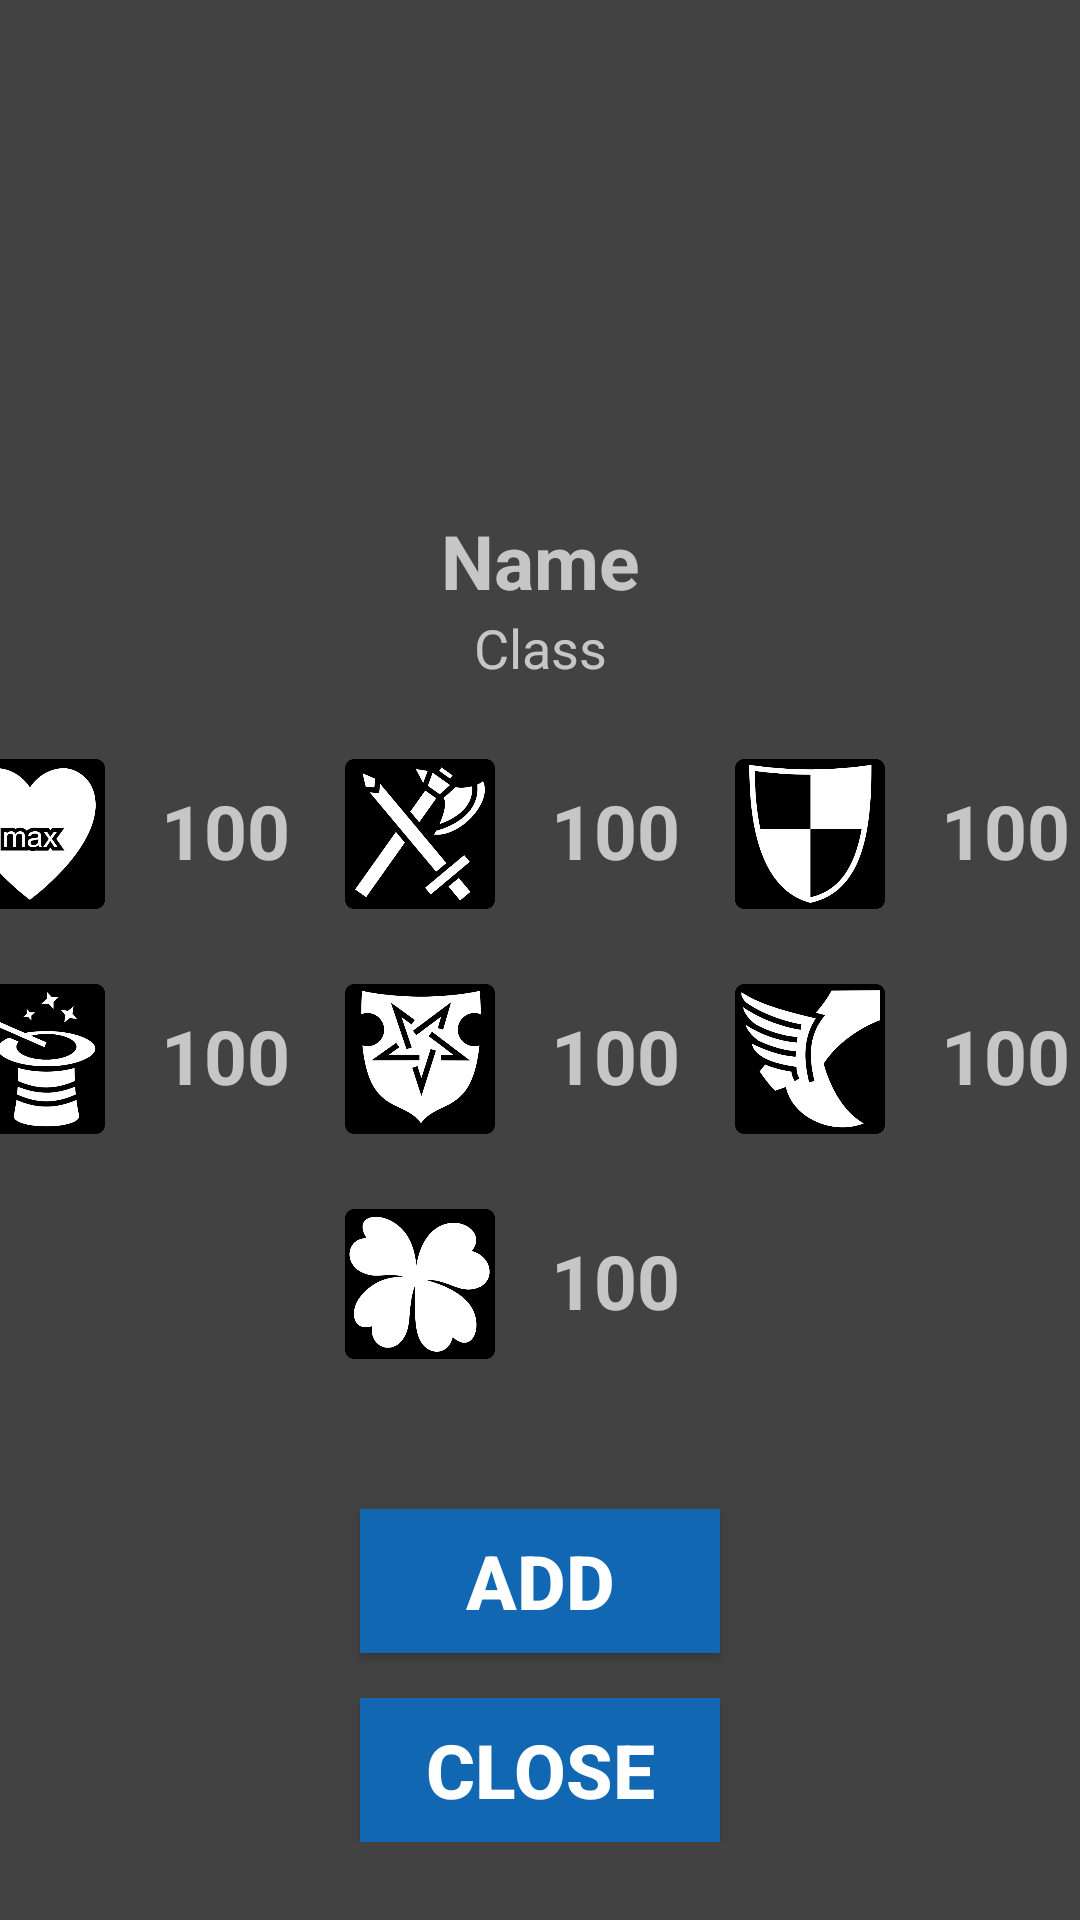

Screen size 1080 × 1920. Icon name, then its center in pixels as (x,y):
agility: (810,1059)
defense: (810,834)
luck: (420,1284)
magicdefense: (420,1059)
strength: (420,834)
